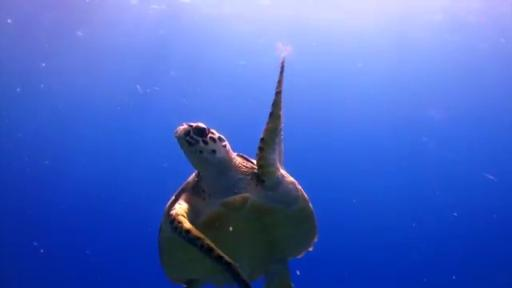Fish: (159, 60, 317, 287)
